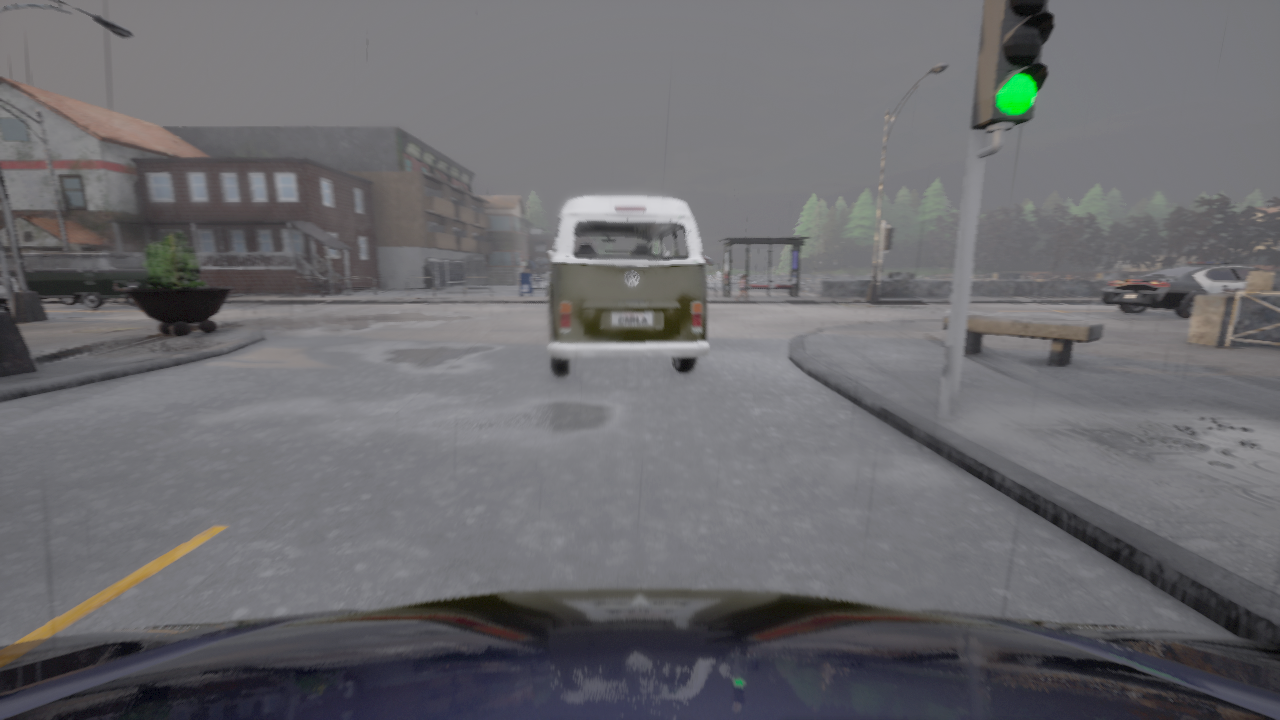cyclist: (0, 588, 1279, 719), (547, 195, 709, 375), (1101, 261, 1264, 318), (0, 251, 149, 308), (0, 274, 19, 312)
pedestrian: (735, 275, 748, 300)
